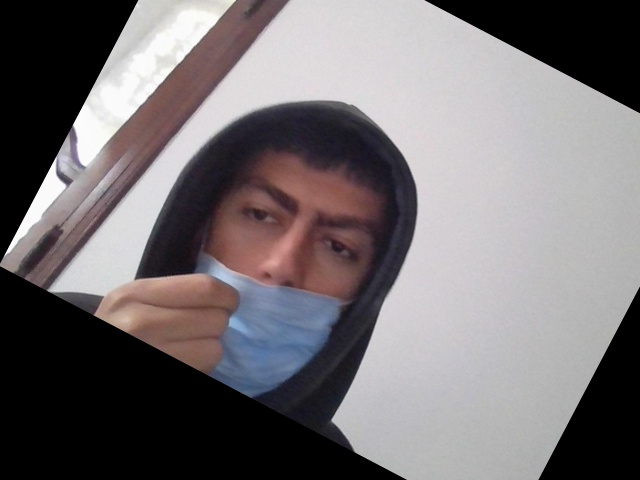mask_weared_incorrect: (190, 149, 390, 407)
